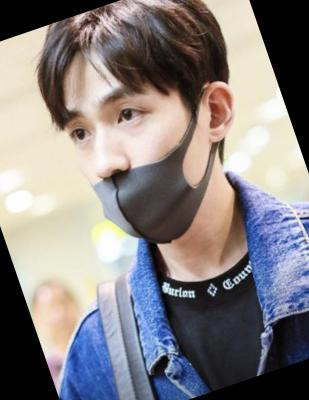mask_weared_incorrect: (55, 68, 224, 265)
